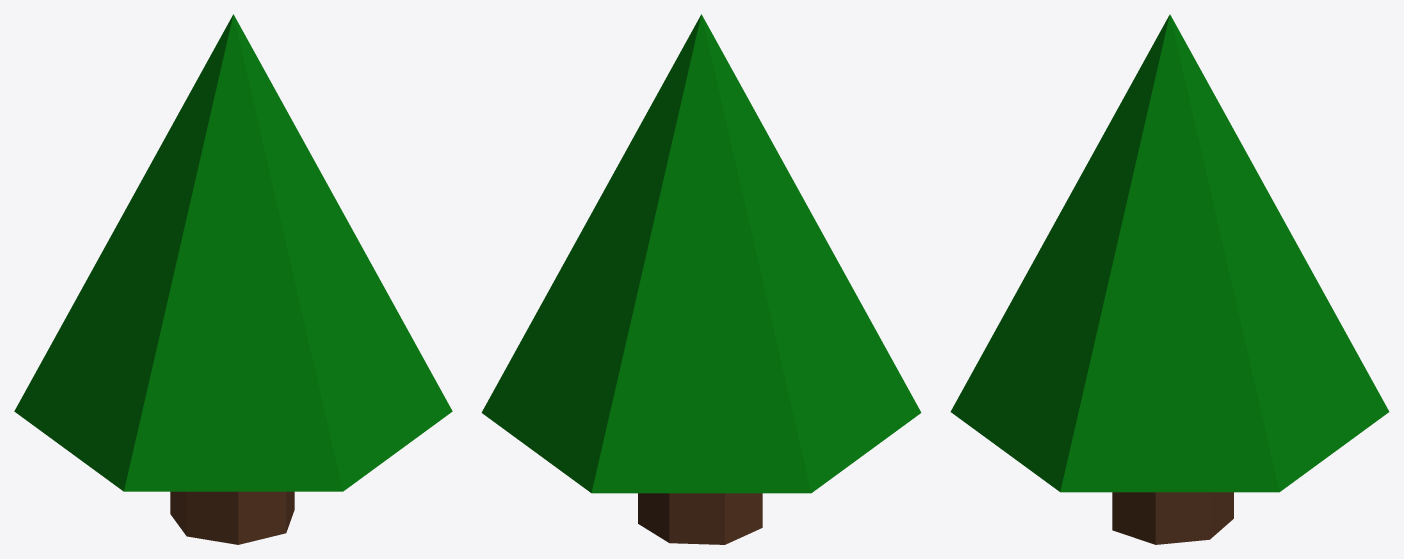
The model's file is tree1.glb.
3 renders of one model, left to right at view 1: azimuth 30°, elevation 25°; view 2: azimuth 150°, elevation 25°; view 3: azimuth 270°, elevation 25°, orthographic.
Visible parts, largest first — view 1: Cone.001; view 2: Cone.001; view 3: Cone.001.
Part boxes in pixels (x1=…): Cone.001: x1=14, y1=14, x2=452, y2=544; Cone.001: x1=481, y1=14, x2=921, y2=544; Cone.001: x1=950, y1=14, x2=1389, y2=544.
Bounding box in the file's own units: 1.73 × 2.54 × 2.
